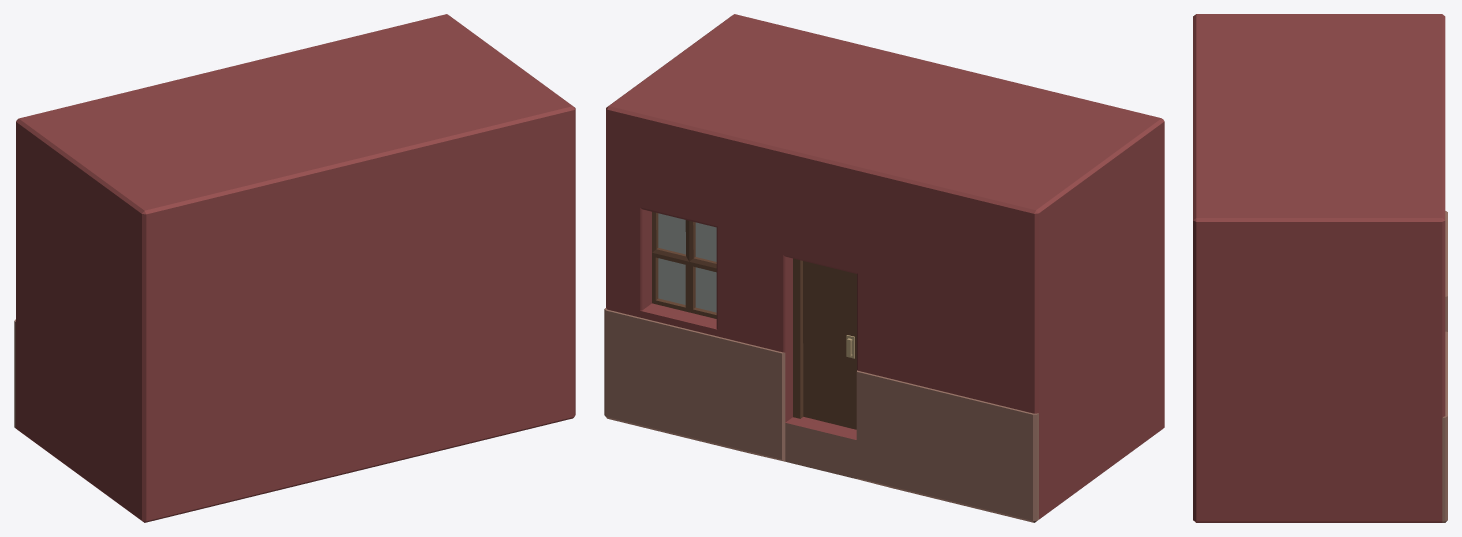
File: Edificio_Mediano01.fbx
The picture shows the model from 3 angles, left to right: view 1: azimuth 30°, elevation 25°; view 2: azimuth 150°, elevation 25°; view 3: azimuth 270°, elevation 25°; orthographic projection. The views are drawn at different scales.
Parts seen in each view (by area): view 1: WallModule.001; view 2: WallModule.001; view 3: WallModule.001.
Part boxes in pixels (box(x1,y1,x2,y2)): WallModule.001: box(14, 14, 575, 522); WallModule.001: box(604, 14, 1164, 522); WallModule.001: box(1193, 14, 1447, 522).
Bounding box in the file's own units: 581 × 400 × 303.
